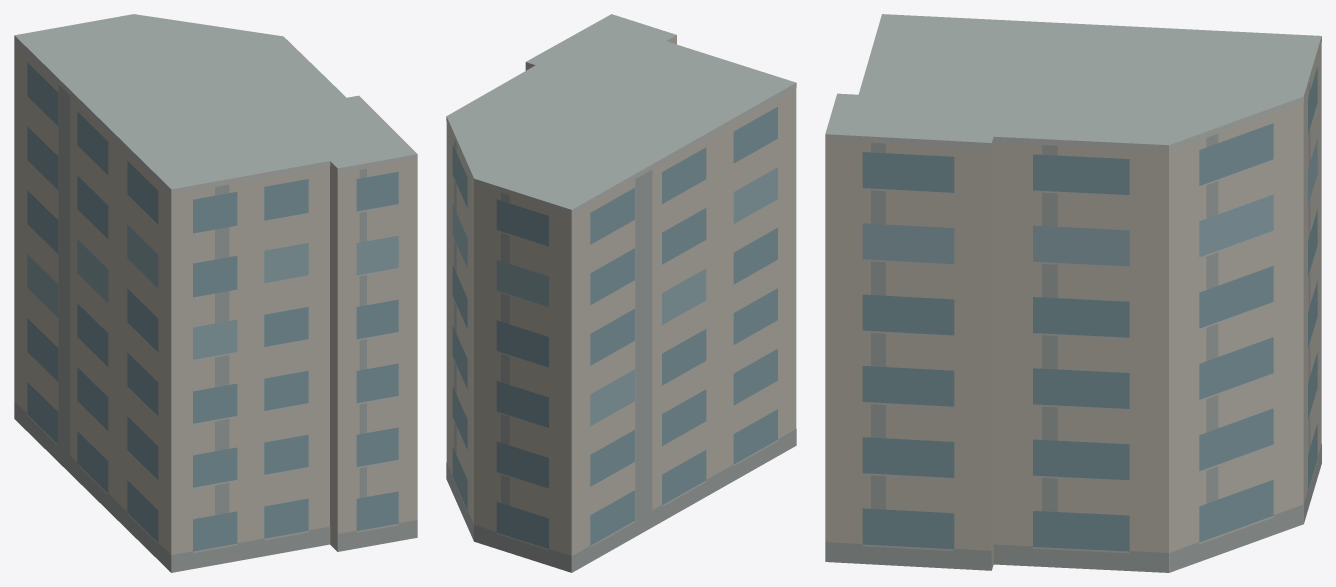
The model's file is survey-upis-32747174.glb.
The picture shows the model from 3 angles, left to right: view 1: azimuth 30°, elevation 25°; view 2: azimuth 150°, elevation 25°; view 3: azimuth 270°, elevation 25°; orthographic projection. The views are drawn at different scales.
Parts seen in each view (by area): view 1: survey-upis-32747174.tmp; view 2: survey-upis-32747174.tmp; view 3: survey-upis-32747174.tmp.
Boxes of the visible parts, x1,y1,x2,y2 form: survey-upis-32747174.tmp: (14,14,417,572); survey-upis-32747174.tmp: (446,14,796,572); survey-upis-32747174.tmp: (825,14,1321,572).
Size of the model in its own units: 11.26 by 17.1 by 18.
